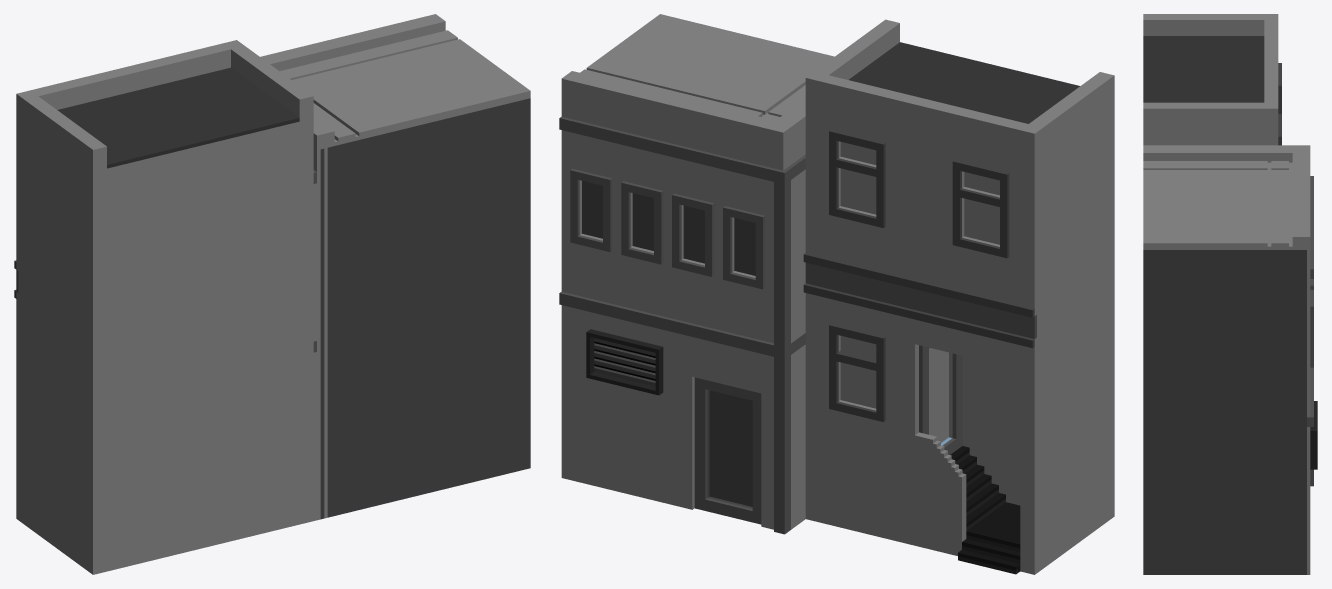
The model's file is casa5.obj.
The picture shows the model from 3 angles, left to right: view 1: azimuth 30°, elevation 25°; view 2: azimuth 150°, elevation 25°; view 3: azimuth 270°, elevation 25°; orthographic projection. The views are drawn at different scales.
Bounding box in the file's own units: 125 × 116 × 49.
1 material, 1 textured.
